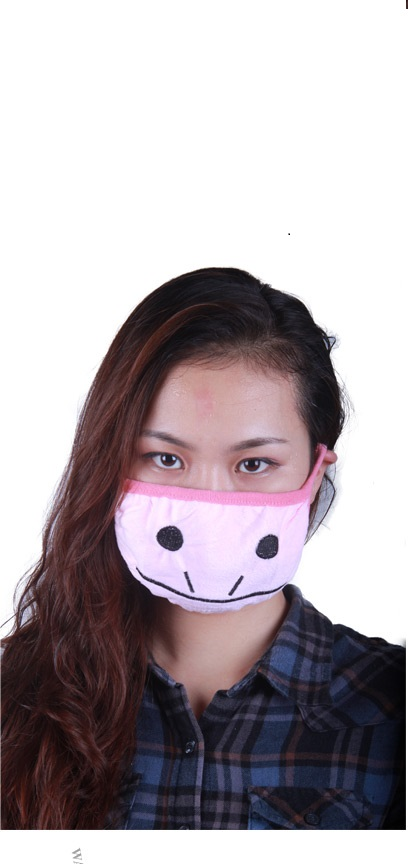face_mask: (122, 366, 305, 608)
